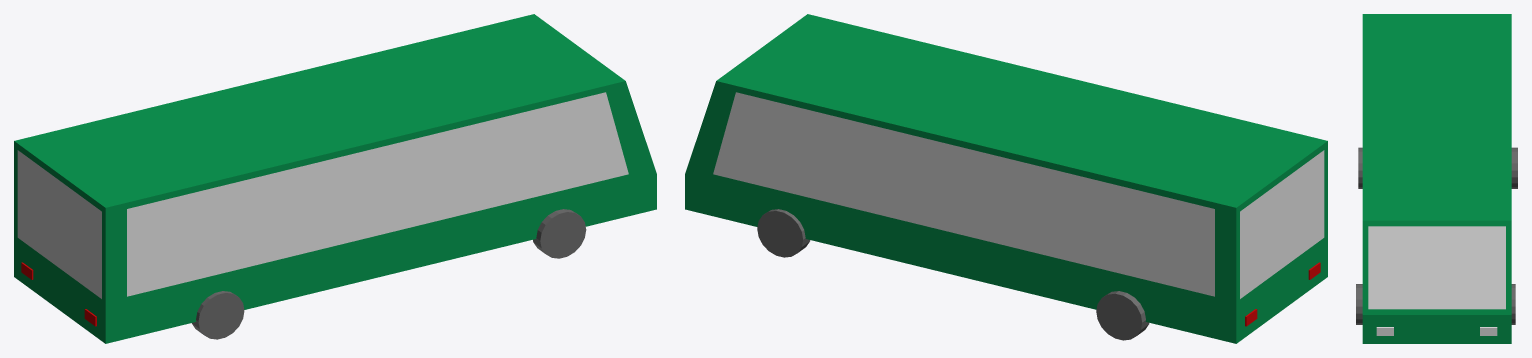
File: Green Bus.fbx
3 renders of one model, left to right at view 1: azimuth 30°, elevation 25°; view 2: azimuth 150°, elevation 25°; view 3: azimuth 270°, elevation 25°, orthographic. The views are drawn at different scales.
Visible parts, largest first — view 1: Bus; view 2: Bus; view 3: Bus.
Part boxes in pixels (<box>): Bus: <box>14,14,656,343</box>; Bus: <box>685,14,1327,343</box>; Bus: <box>1356,14,1517,343</box>.
Size of the model in its own units: 18207 by 4935 by 5634.
